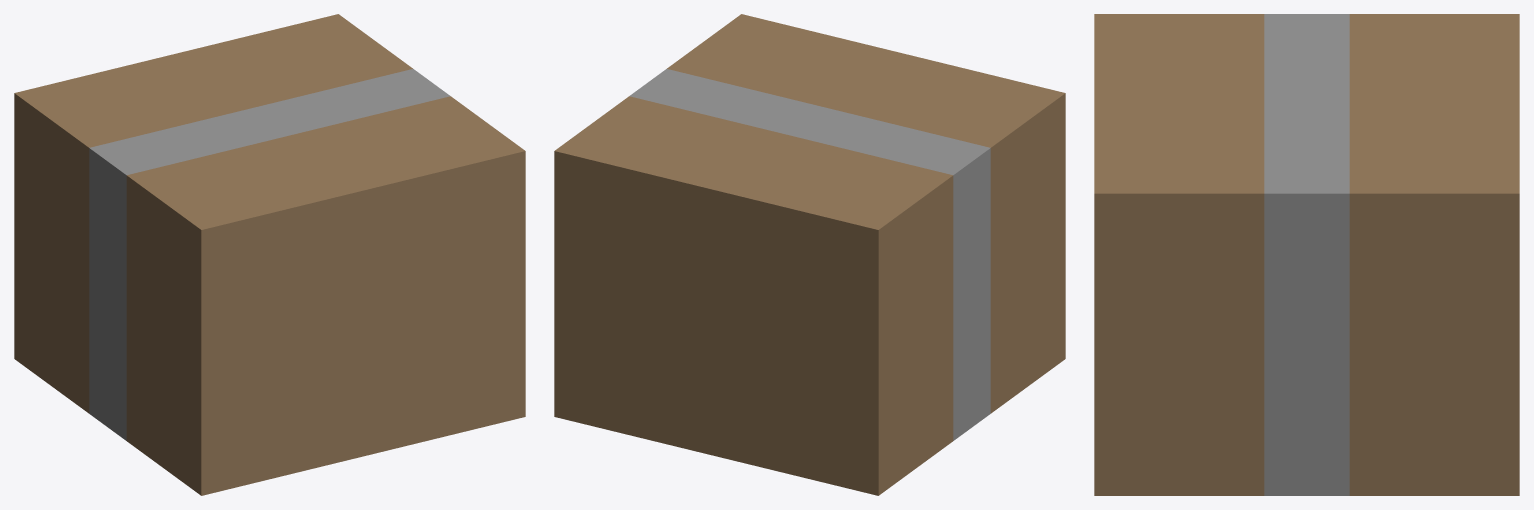
3 renders of one model, left to right at view 1: azimuth 30°, elevation 25°; view 2: azimuth 150°, elevation 25°; view 3: azimuth 270°, elevation 25°, orthographic. The views are drawn at different scales.
Visible parts, largest first — view 1: Box; view 2: Box; view 3: Box.
Boxes of the visible parts, box(x1,y1,x2,y2) form: Box: box(14, 14, 525, 495); Box: box(554, 14, 1065, 495); Box: box(1094, 14, 1519, 495).
Bounding box in the file's own units: 143 × 112 × 143.
